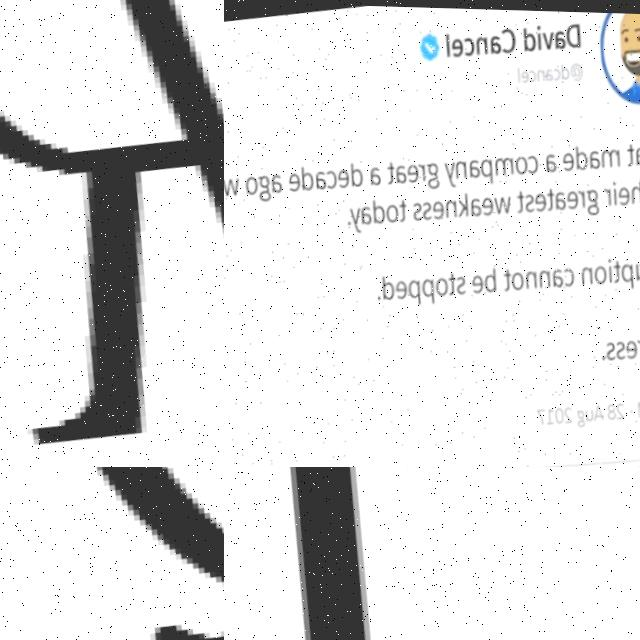0: (557, 402, 571, 420)
1: (548, 402, 560, 421)
2: (617, 396, 631, 416), (565, 402, 579, 419)
7: (540, 403, 551, 422)
8: (609, 398, 623, 416)
J: (224, 467, 585, 640)
Q: (0, 467, 224, 640)
R: (0, 0, 224, 467)
